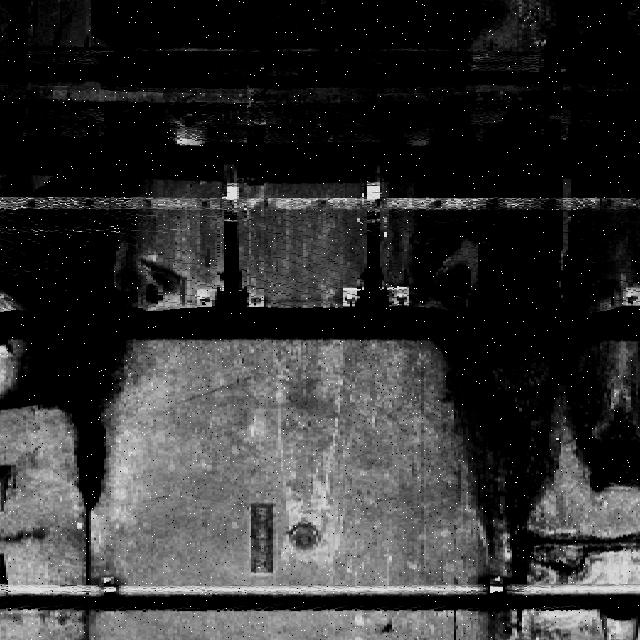leakage: (410, 180, 559, 640), (90, 1, 517, 149), (1, 172, 150, 536), (562, 178, 640, 496), (527, 4, 640, 149), (1, 1, 45, 145)
